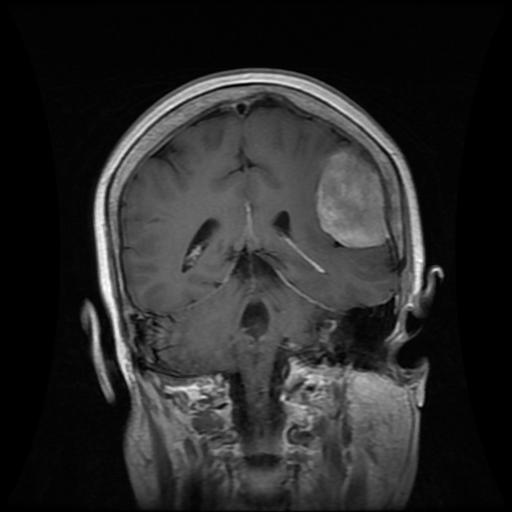Menigiomia_tumour: (315, 143, 390, 248)
